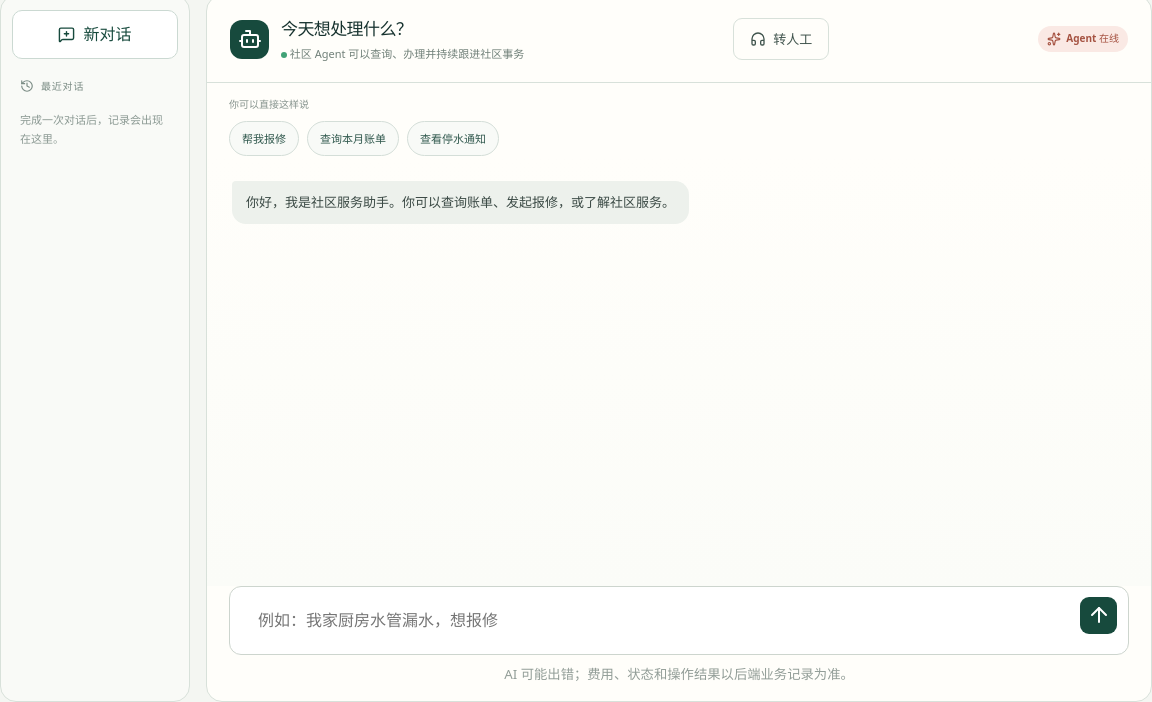
Test: Agent home flow › guides inspection creation through business fields instead of internal IDs
(page scrolled)
Type "发起巡检" into the field named "发送给社区智能体" at coordinates (658, 620), box 246,597 -> 1070,644
Click the button named "发送" at coordinates (1098, 615), box 1080,597 -> 1117,634
(page scrolled)
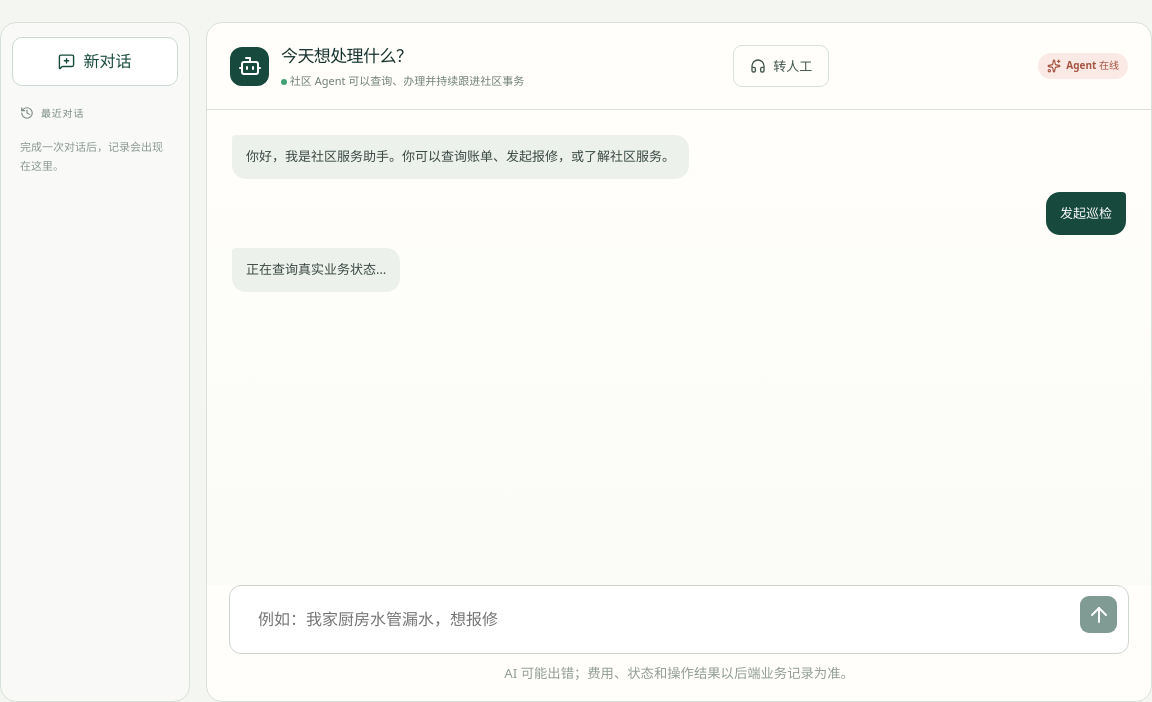
Type "每周小区安防巡检" into the field named "发送给社区智能体" at coordinates (658, 620), box 246,596 -> 1070,643
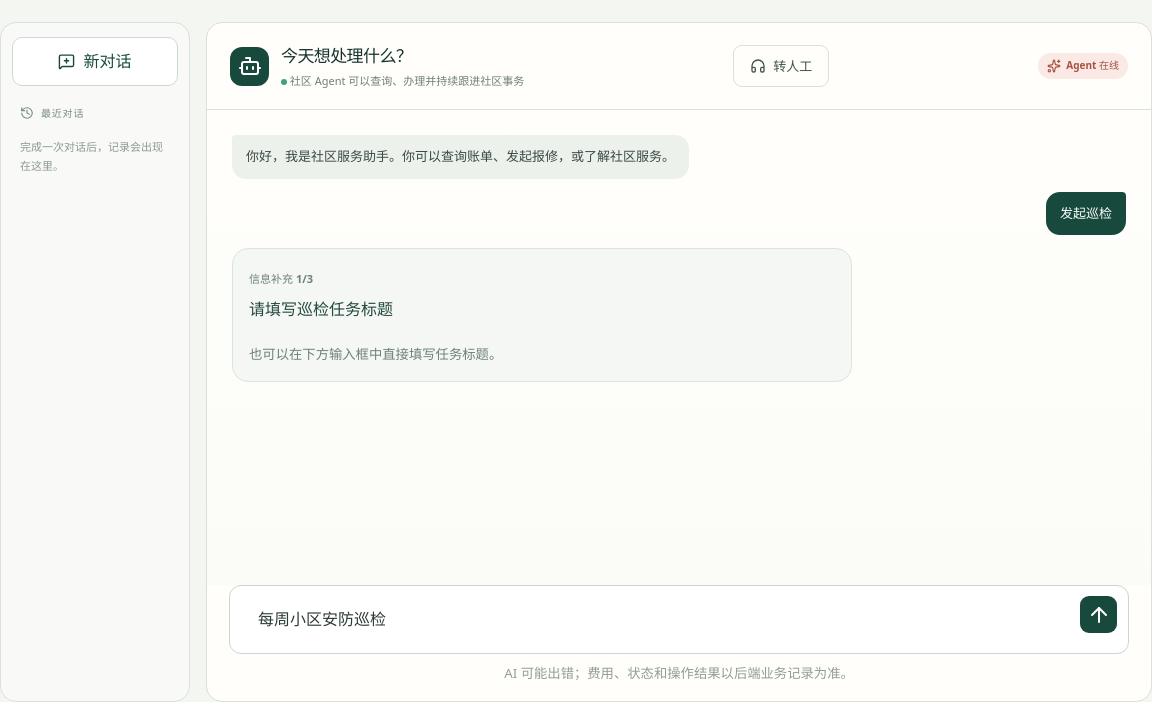
Click the button named "发送" at coordinates (1098, 615), box 1080,596 -> 1117,633
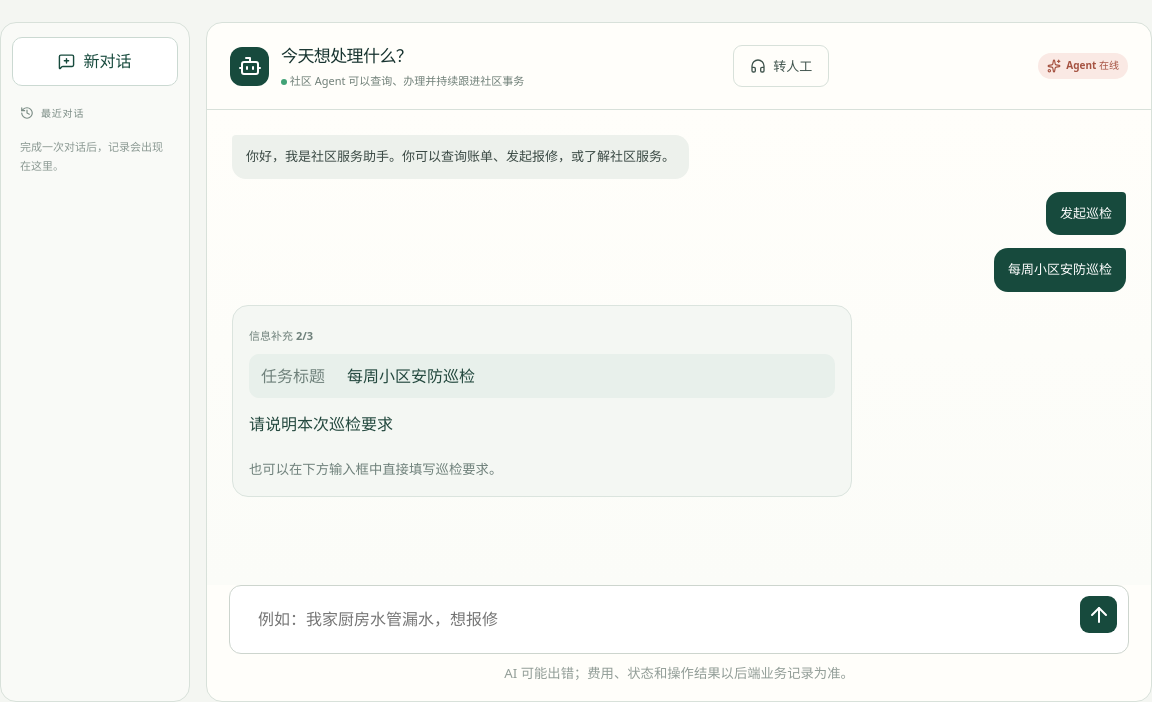
Type "检查消防设施和通道" into the field named "发送给社区智能体" at coordinates (658, 620), box 246,596 -> 1070,643
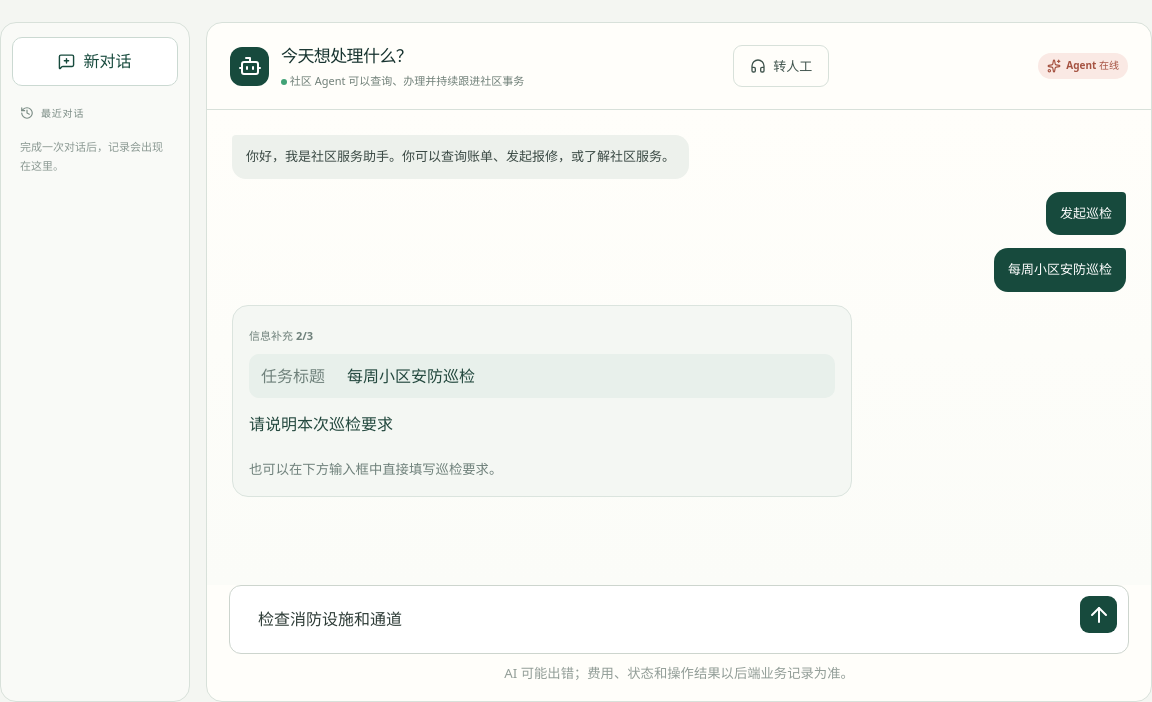
Click the button named "发送" at coordinates (1098, 615), box 1080,596 -> 1117,633
(page scrolled)
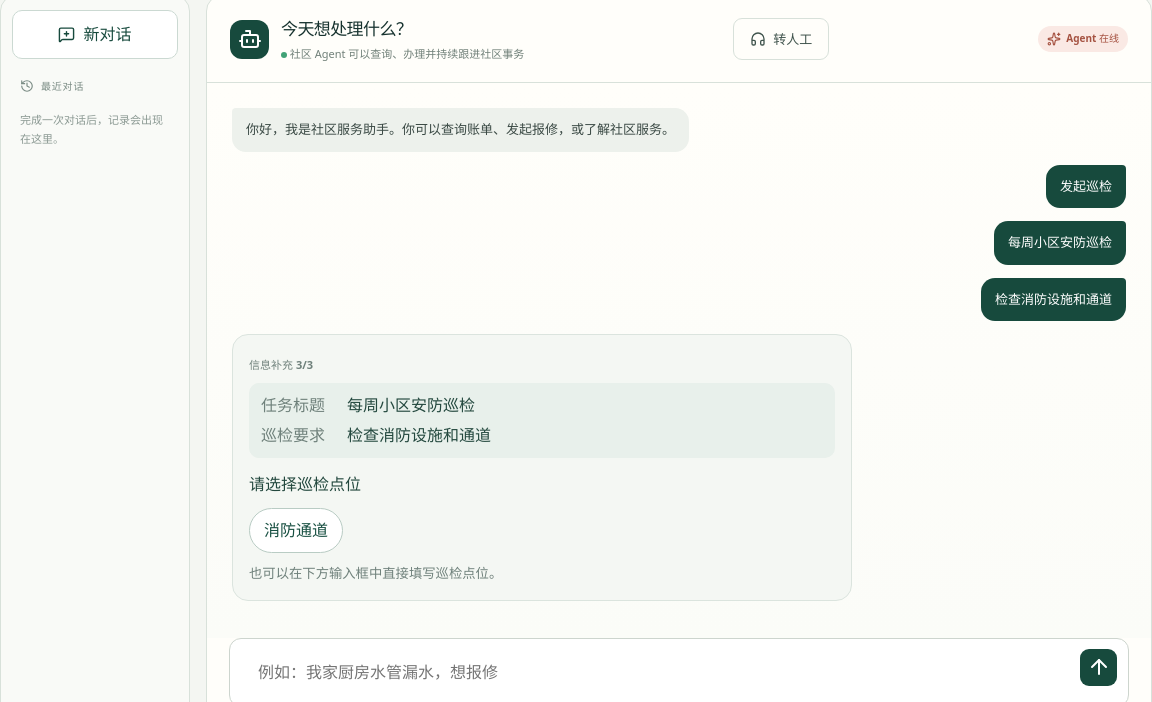
Click the button "消防通道" at coordinates (296, 531), box 249,508 -> 343,553
(page scrolled)
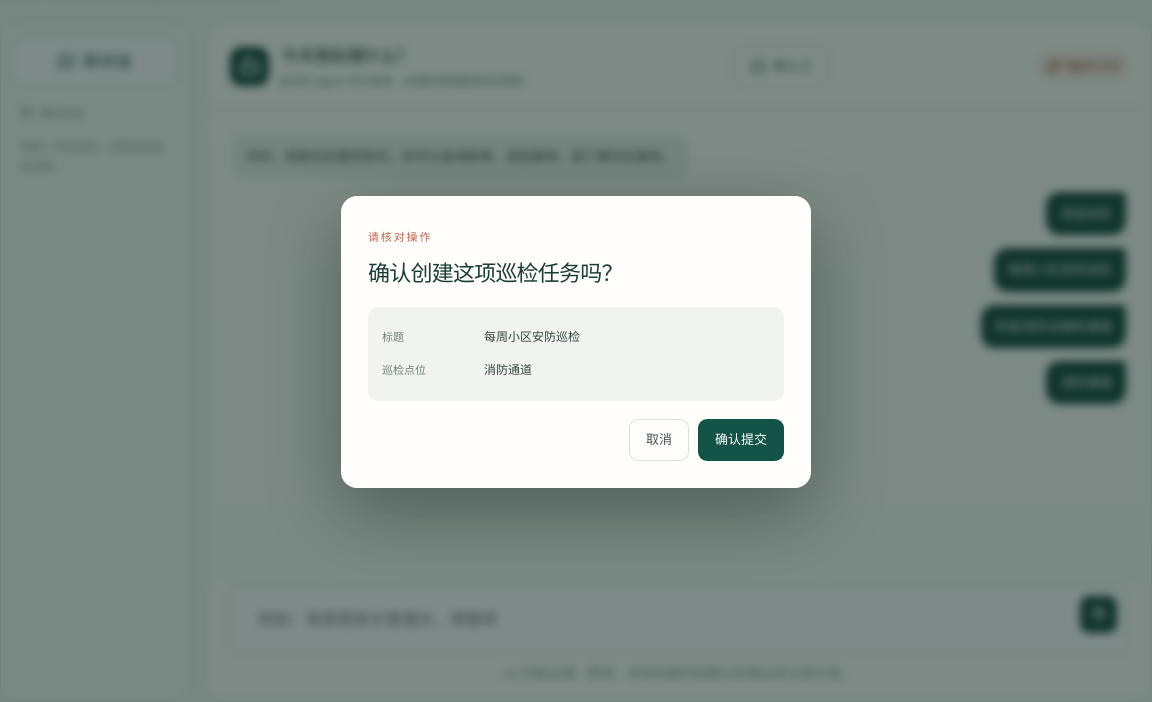
expect the heading "确认创建这项巡检任务吗？" is shown: met, box 368,257 -> 623,287
